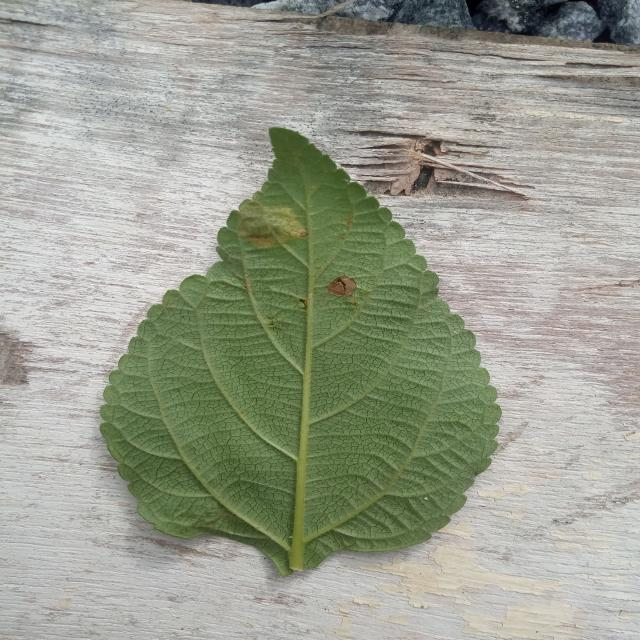Lantana: (100, 128, 502, 575)
